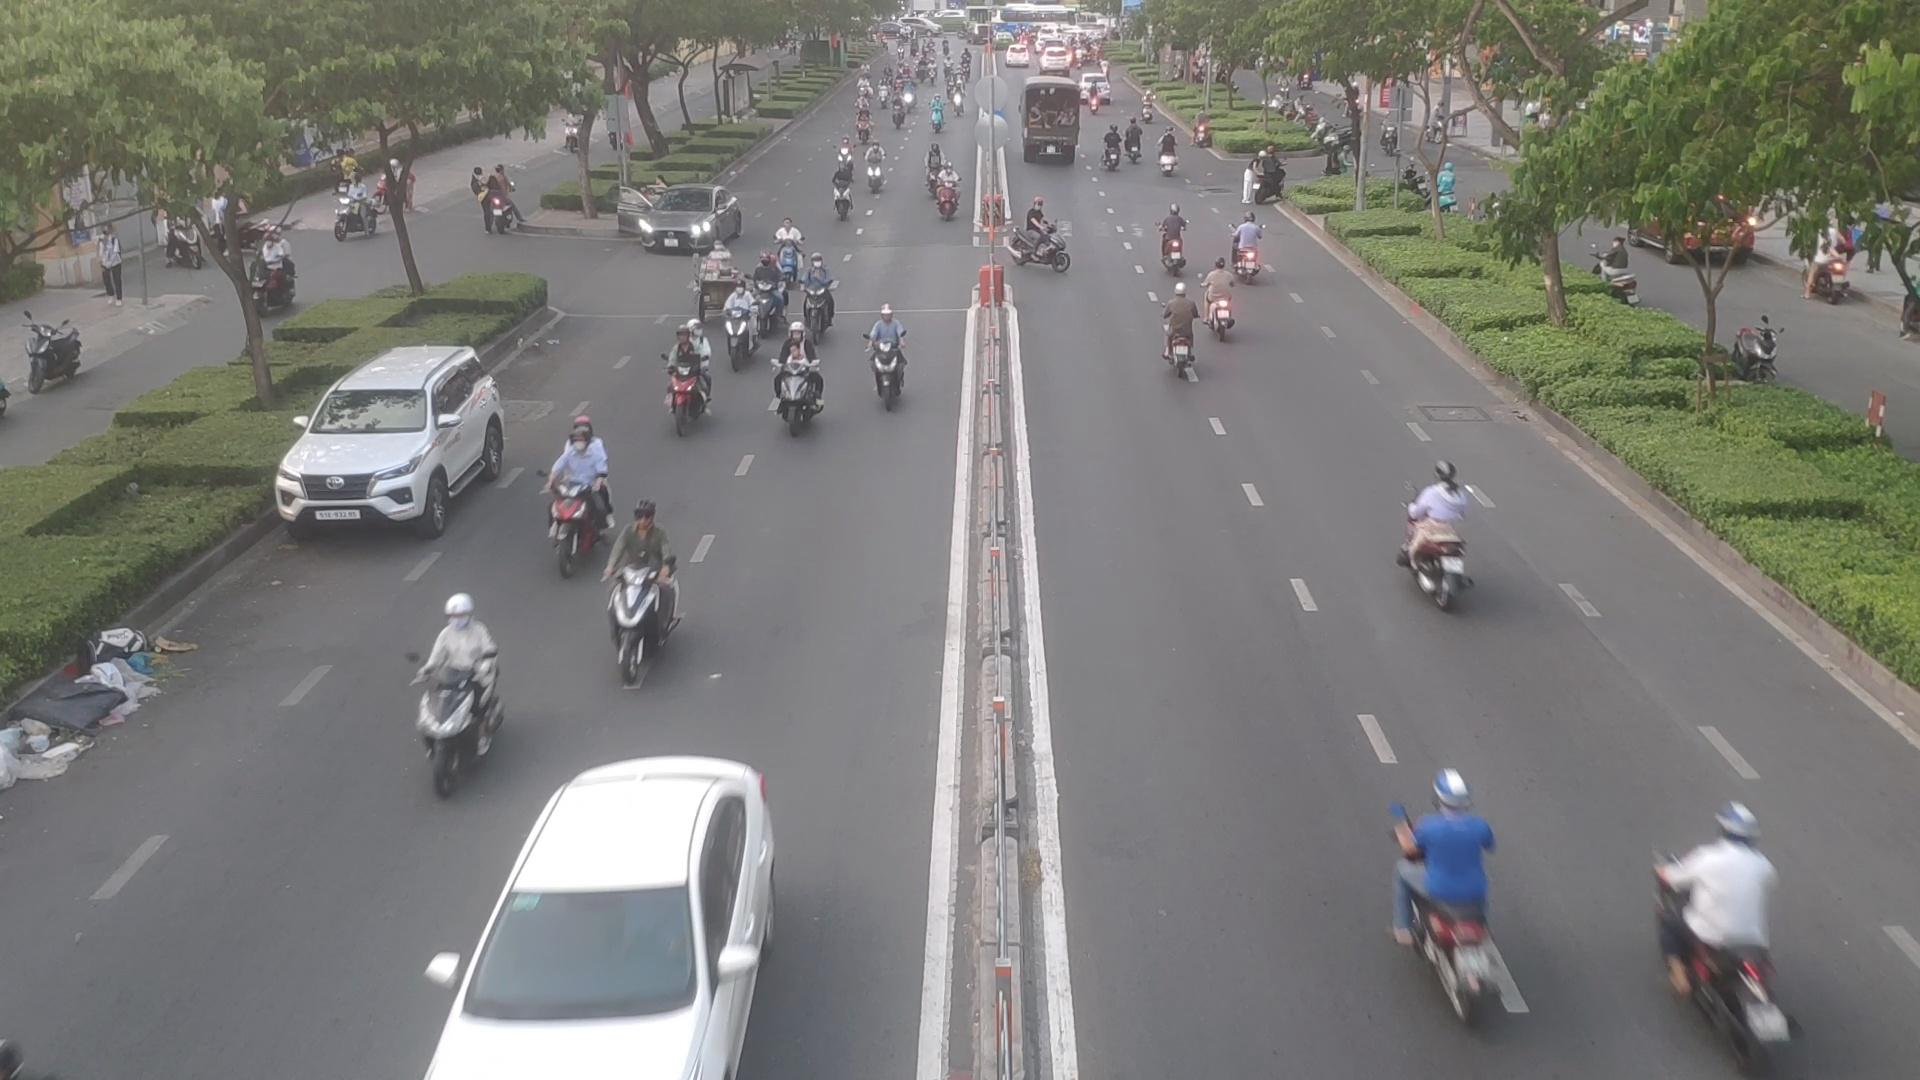car: (421, 752, 773, 1080), (273, 345, 510, 535), (617, 187, 738, 258)
motorbike: (1644, 785, 1796, 1067), (1370, 769, 1513, 1000), (413, 589, 514, 787), (609, 493, 679, 683), (543, 421, 615, 574), (1407, 459, 1481, 601), (661, 316, 716, 439), (770, 306, 822, 425), (864, 291, 913, 409), (1000, 196, 1073, 272), (1159, 281, 1200, 396), (1197, 260, 1244, 338), (724, 276, 760, 364), (803, 251, 837, 334), (1241, 142, 1286, 206), (927, 160, 967, 227), (754, 253, 789, 330), (1154, 199, 1187, 274), (1240, 208, 1269, 277), (825, 166, 861, 218), (857, 138, 890, 193), (1156, 119, 1180, 175), (1098, 119, 1124, 167), (781, 219, 806, 266)
